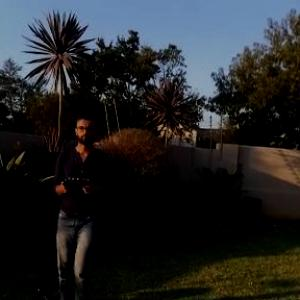follow: (47, 109, 114, 299)
